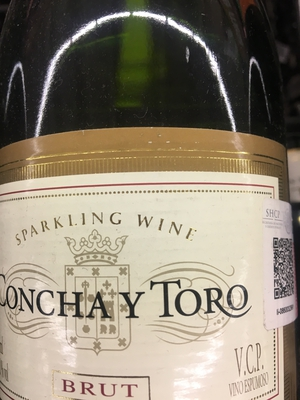brut: (1, 31, 294, 400)
